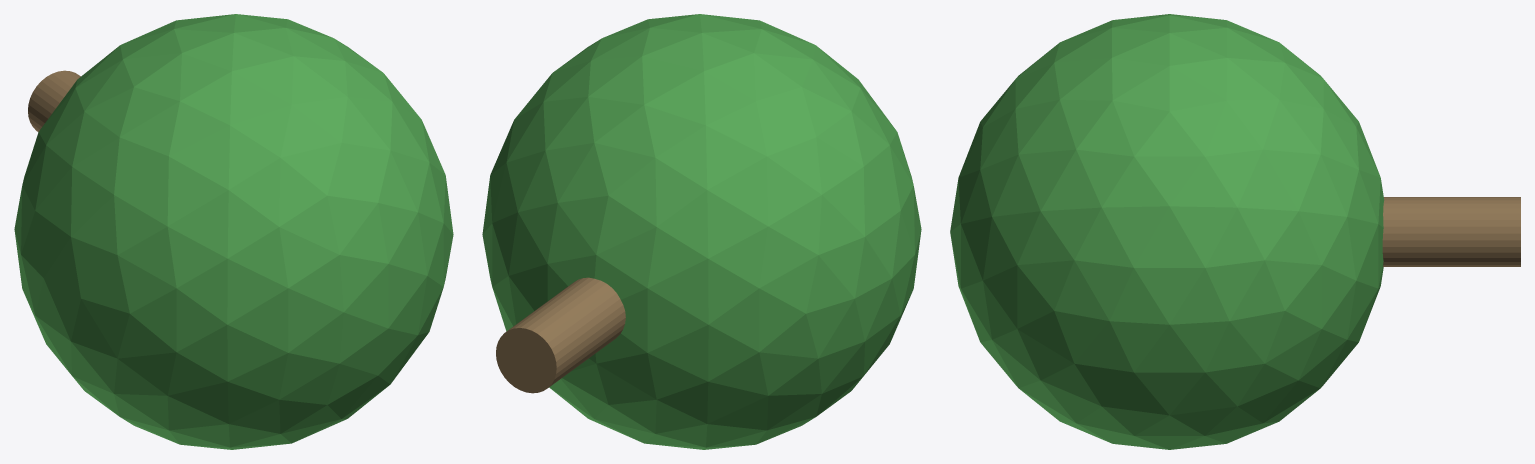
The model's file is tree.glb.
The picture shows the model from 3 angles, left to right: view 1: azimuth 30°, elevation 25°; view 2: azimuth 150°, elevation 25°; view 3: azimuth 270°, elevation 25°; orthographic projection.
Visible parts, largest first — view 1: geometry_0; view 2: geometry_0; view 3: geometry_0.
Boxes of the visible parts, x1=… form: geometry_0: x1=14, y1=14, x2=453, y2=449; geometry_0: x1=482, y1=14, x2=921, y2=449; geometry_0: x1=950, y1=14, x2=1520, y2=449.
Size of the model in its own units: 5 by 5 by 6.5.
